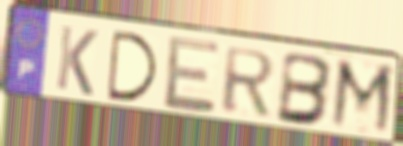B: (274, 49, 337, 129)
D: (106, 27, 161, 104)
E: (163, 33, 222, 116)
K: (53, 23, 101, 99)
M: (327, 56, 397, 140)
R: (220, 45, 279, 119)
